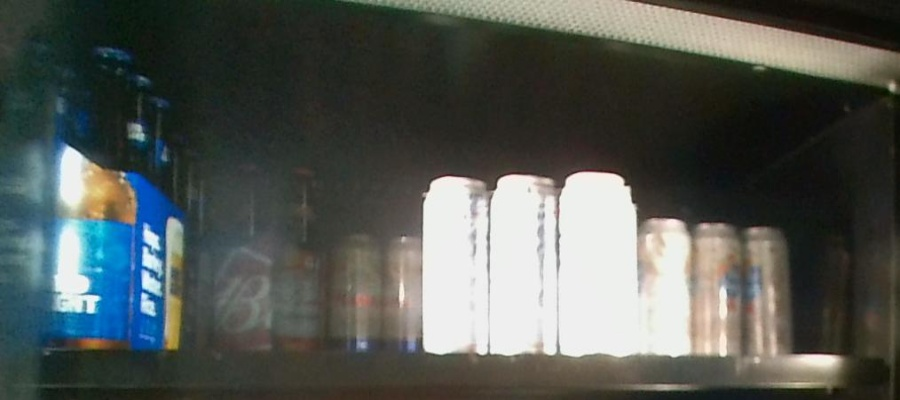bottle: (45, 47, 201, 344), (426, 172, 636, 353), (213, 151, 323, 350), (639, 214, 792, 352), (328, 178, 421, 350)
